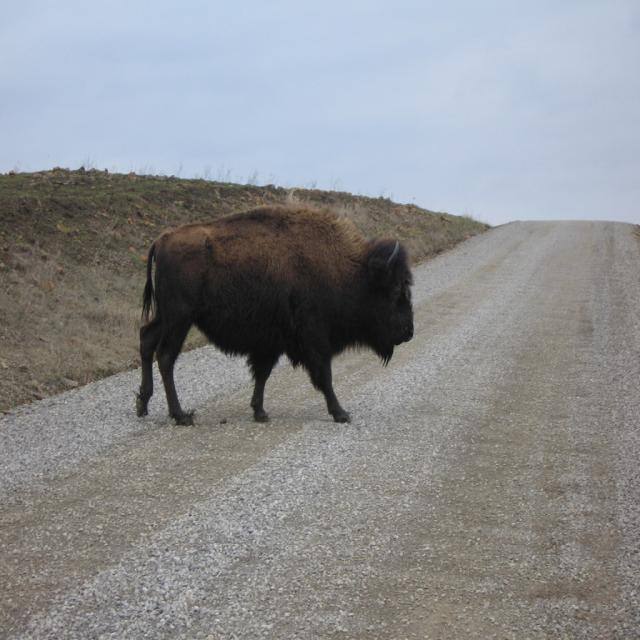Deer: (134, 204, 416, 430)
